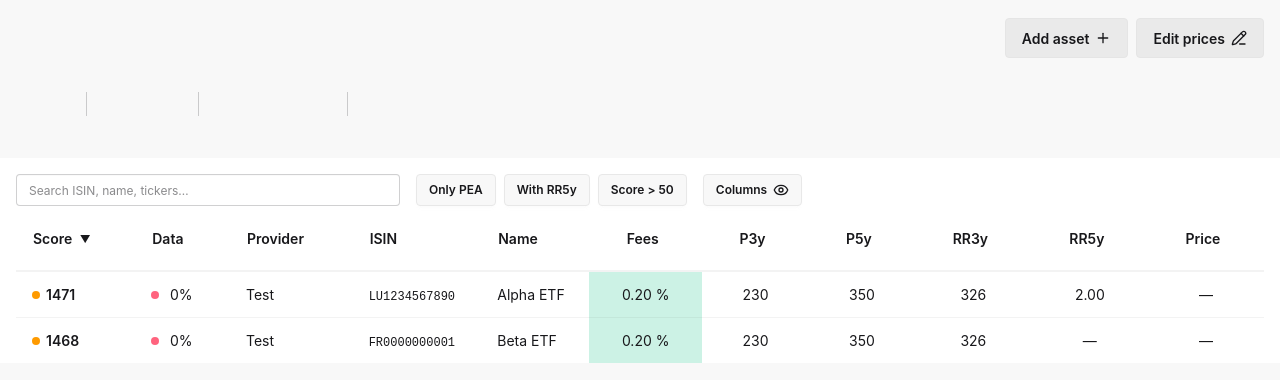
AssetTable - filter › With RR5y button narrows to assets with a 5y risk/reward value
The image size is (1280, 380).
Step 1. Click the button with test id "filter-with-rr5y" → (547, 190), box [504,174,590,206]
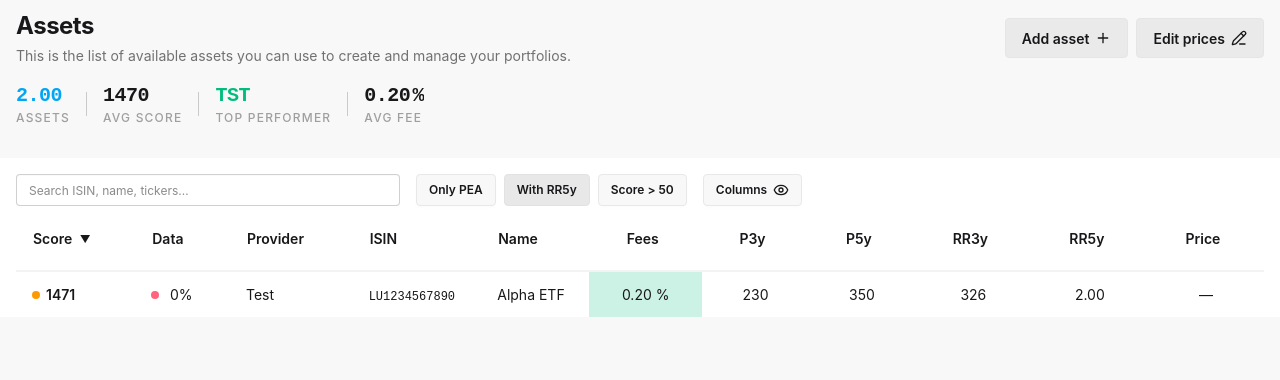
Expected: the row with test id "asset-row-LU1234567890" shows "Alpha ETF", [497,286,565,303]
Now the row with test id "asset-row-FR0000000001" is gone
